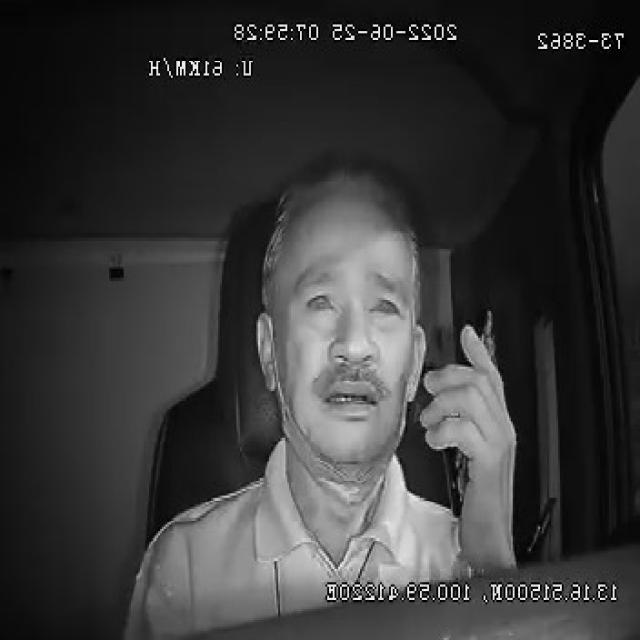phone: (440, 304, 502, 524)
